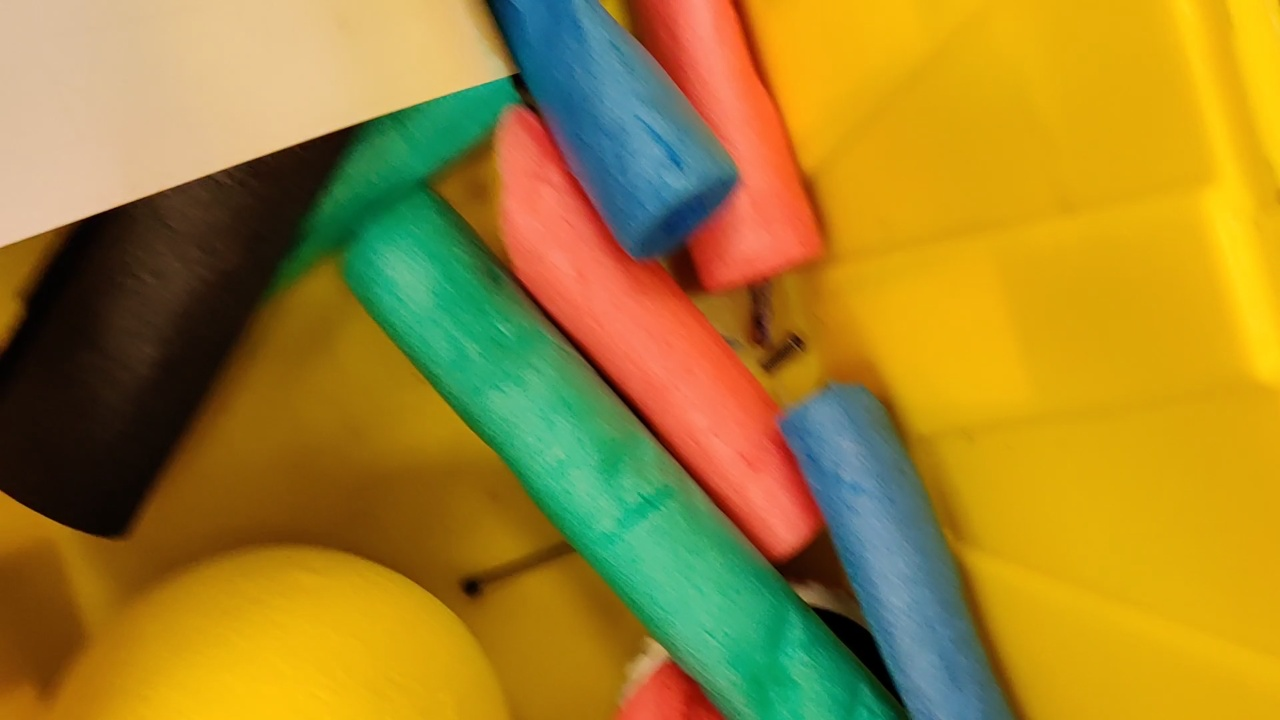Ball: (49, 545, 514, 720)
